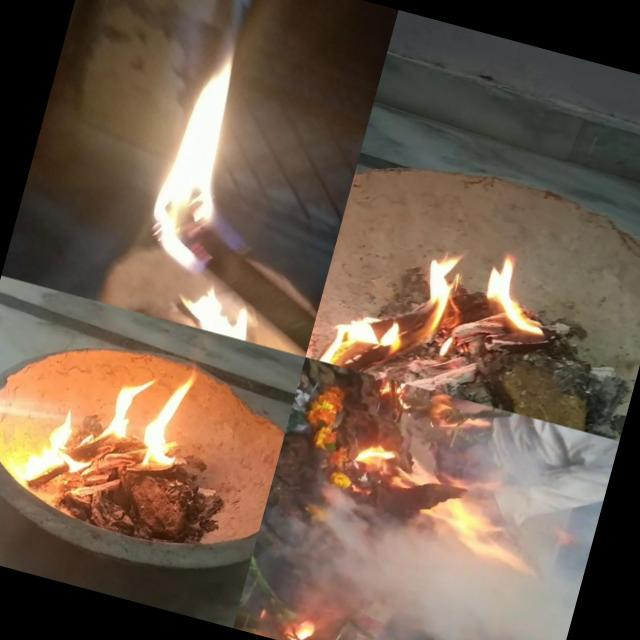fire: (322, 218, 568, 416), (130, 27, 283, 282), (13, 336, 205, 527), (393, 539, 506, 640), (177, 286, 285, 349), (311, 611, 364, 640)
smoke: (376, 387, 619, 599), (464, 576, 577, 640)
